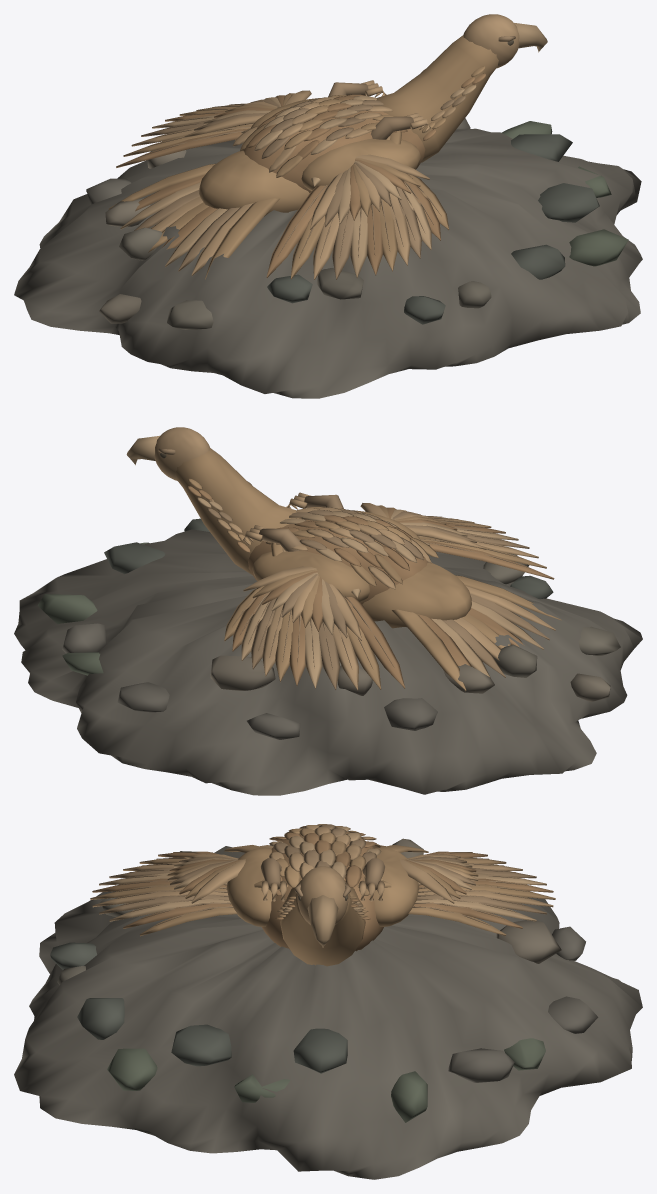
The model's file is BirdRockLookout.glb.
3 renders of one model, top to bottom at view 1: azimuth 30°, elevation 25°; view 2: azimuth 150°, elevation 25°; view 3: azimuth 270°, elevation 25°, orthographic. The views are drawn at different scales.
Parts seen in each view (by area): view 1: BirdRockLookout_Geometry; view 2: BirdRockLookout_Geometry; view 3: BirdRockLookout_Geometry.
Part boxes in pixels (box(x1,y1,x2,y2)): BirdRockLookout_Geometry: box(14, 14, 642, 398); BirdRockLookout_Geometry: box(14, 427, 642, 795); BirdRockLookout_Geometry: box(14, 824, 642, 1179).
Bounding box in the file's own units: 57.84 × 20.1 × 48.97.
